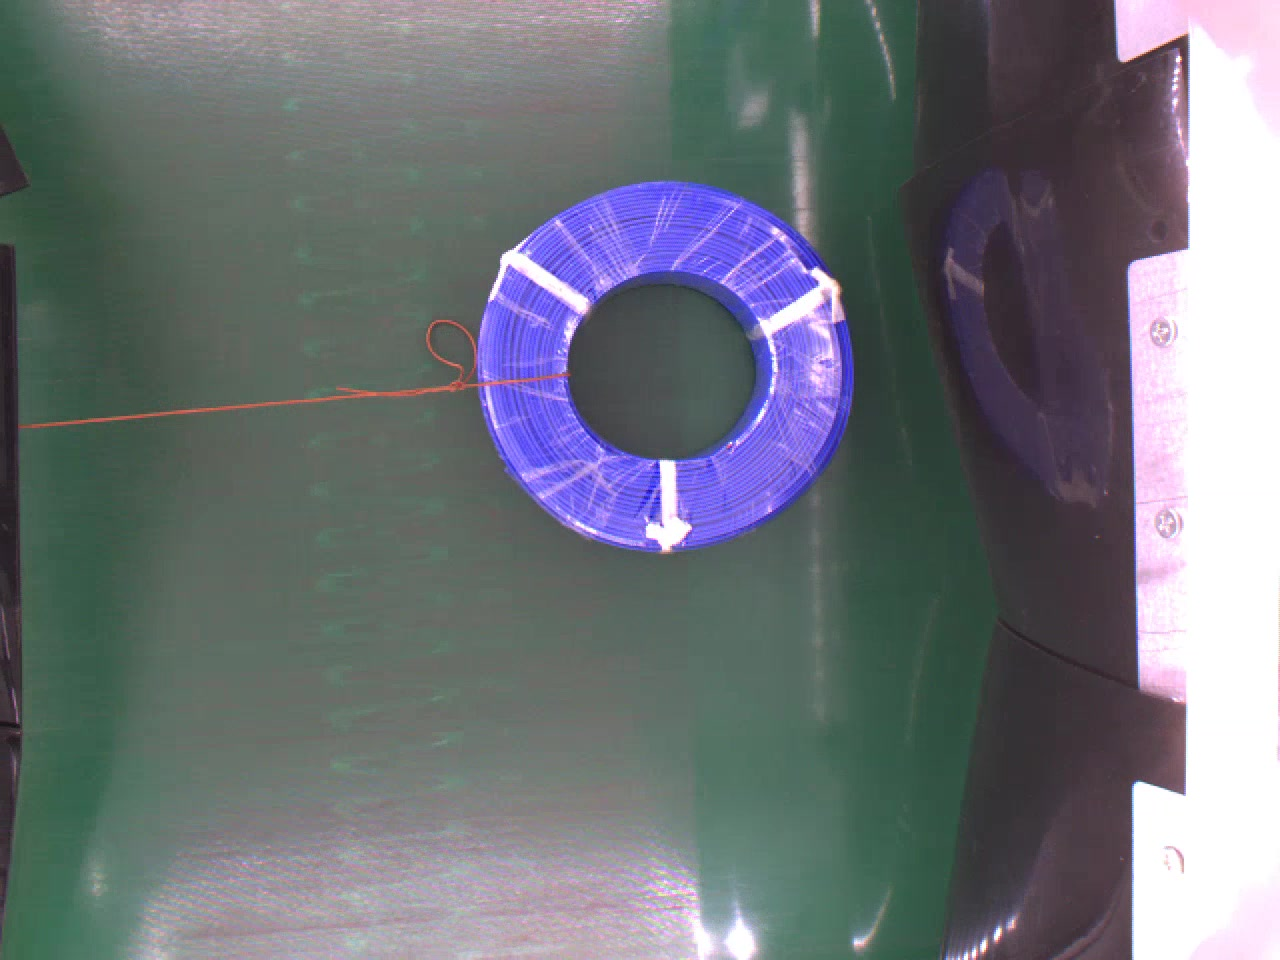blue: (470, 176, 862, 553)
